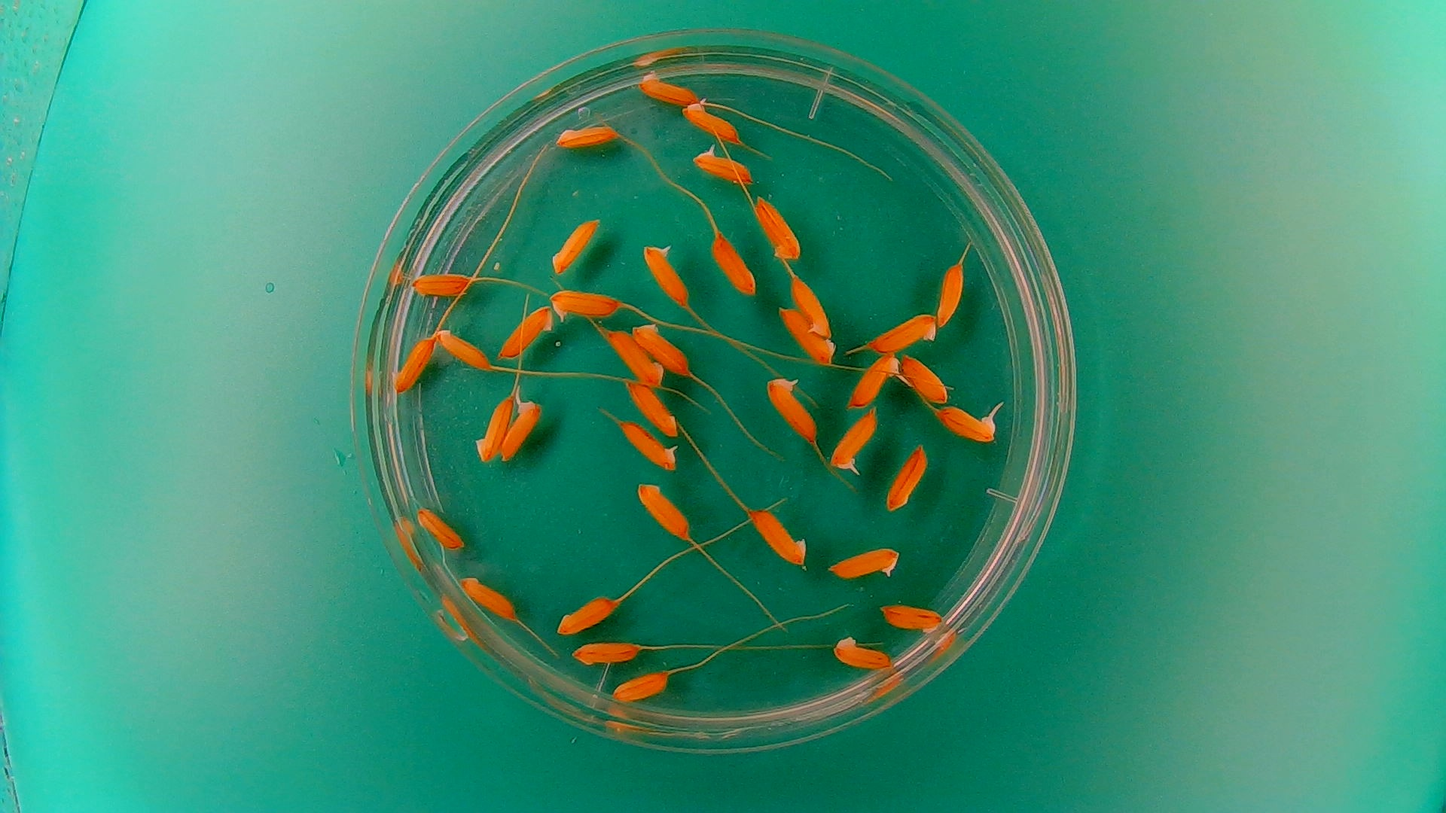no: (748, 504, 808, 568), (777, 306, 837, 367), (634, 481, 692, 542), (496, 302, 554, 361), (606, 327, 662, 386), (754, 193, 802, 260), (632, 321, 691, 375), (549, 216, 602, 276), (455, 572, 518, 622), (709, 233, 758, 297), (885, 441, 929, 512), (867, 310, 938, 353), (471, 392, 513, 464), (625, 382, 679, 437), (389, 333, 436, 394), (555, 592, 617, 637), (898, 352, 950, 405), (435, 325, 492, 372), (635, 67, 702, 105), (831, 633, 893, 672), (933, 257, 966, 327), (415, 506, 464, 553), (543, 123, 631, 149), (569, 638, 642, 668), (880, 601, 944, 635), (611, 668, 670, 703), (409, 267, 474, 298)
yes: (762, 373, 819, 446), (828, 407, 879, 477), (847, 352, 902, 410), (618, 419, 679, 471), (640, 240, 688, 306), (499, 394, 544, 463), (934, 401, 1003, 444), (679, 97, 742, 143), (827, 545, 902, 582), (549, 285, 624, 321), (691, 142, 755, 183), (792, 276, 833, 339)
